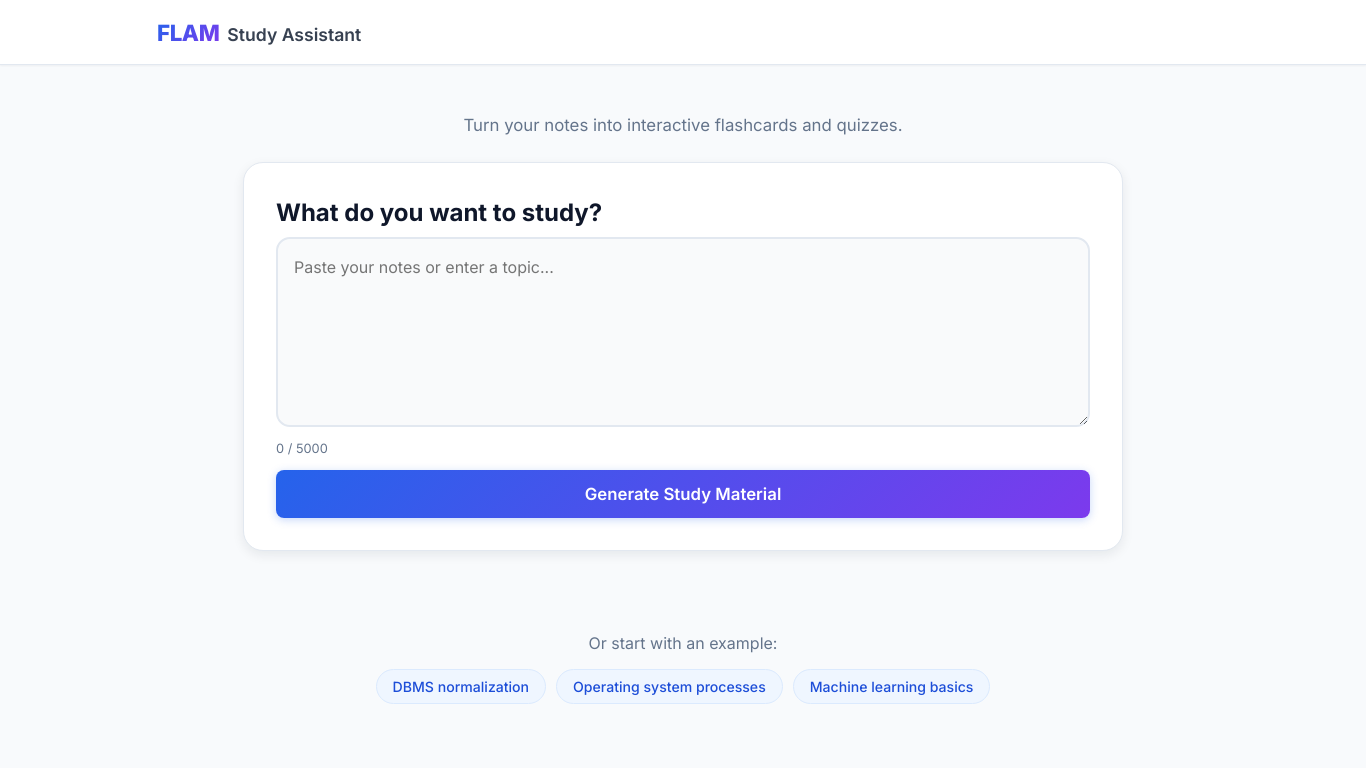
Test case: App request flow › renders an error instead of invalid response data
Type "topic" into the text box named "Notes or Topic". click: (683, 332)
box: x1=276 y1=237 x2=1090 y2=427
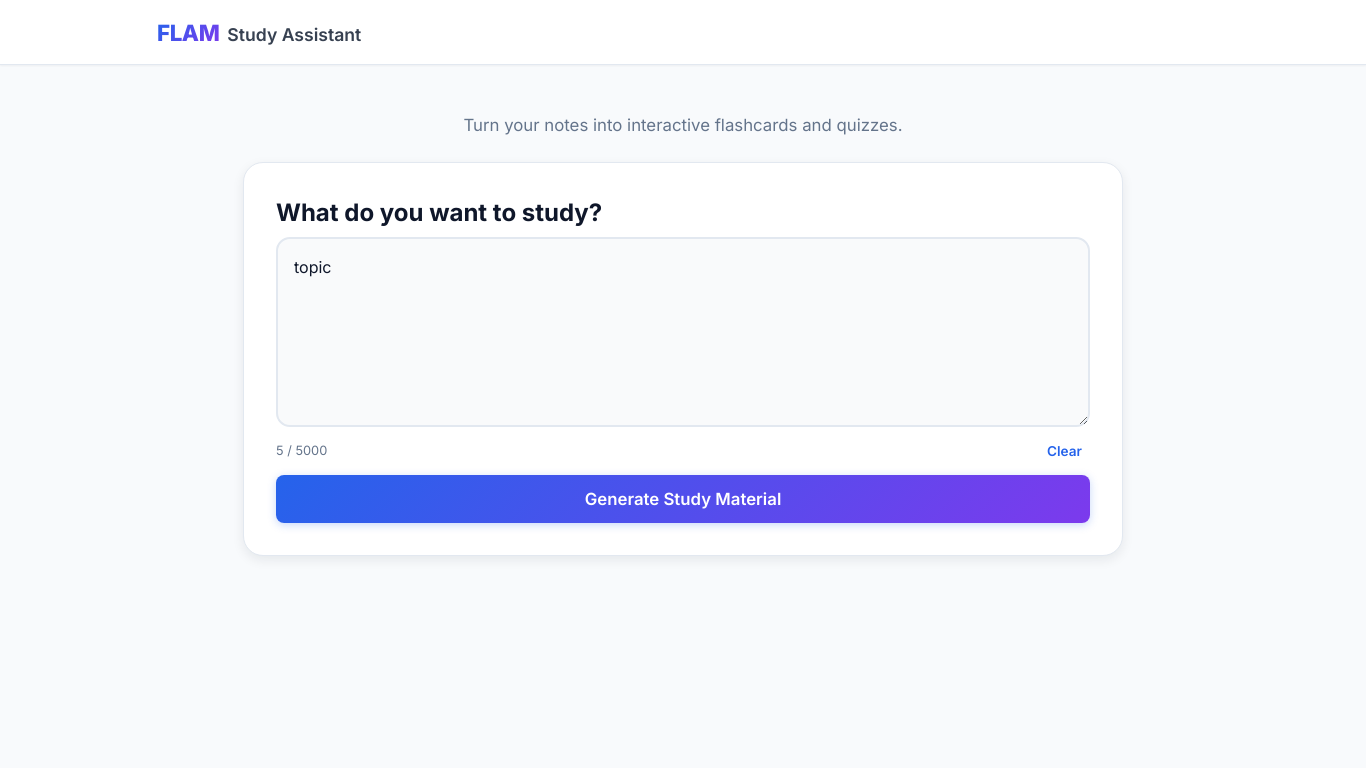
Click the button "Generate Study Material". click: (683, 499)
box: x1=276 y1=475 x2=1090 y2=523
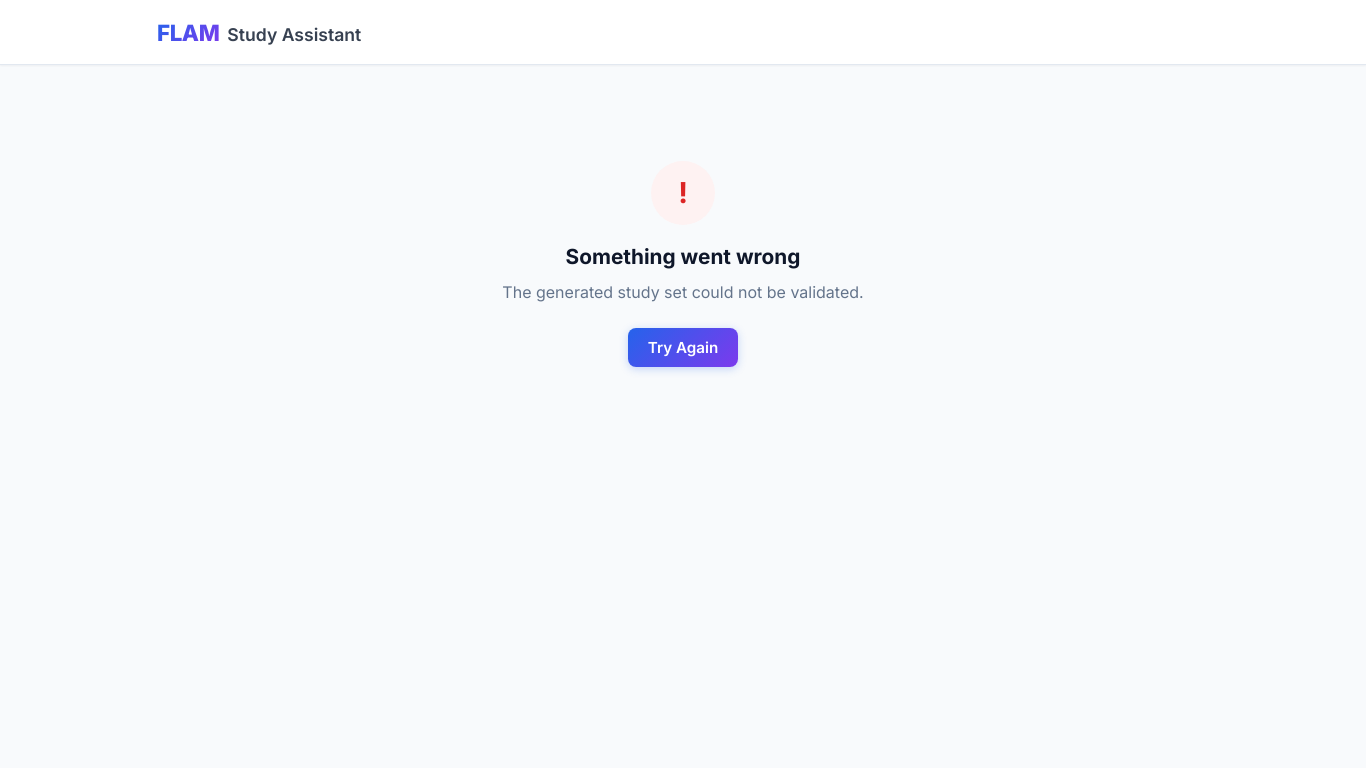
Result: the message shows "could not be validated" at x1=502 y1=282 x2=864 y2=302
